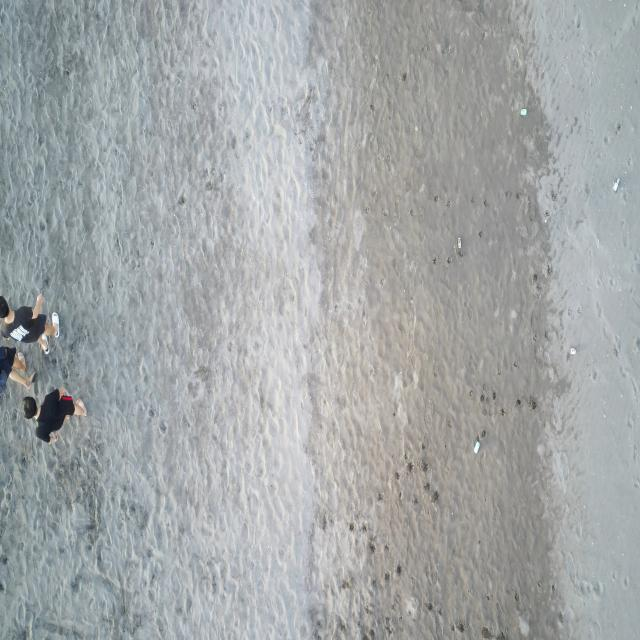tin-and-aluminum-cans: (612, 176, 620, 193), (474, 440, 481, 456), (520, 108, 528, 118), (457, 235, 462, 251), (569, 347, 577, 356)
